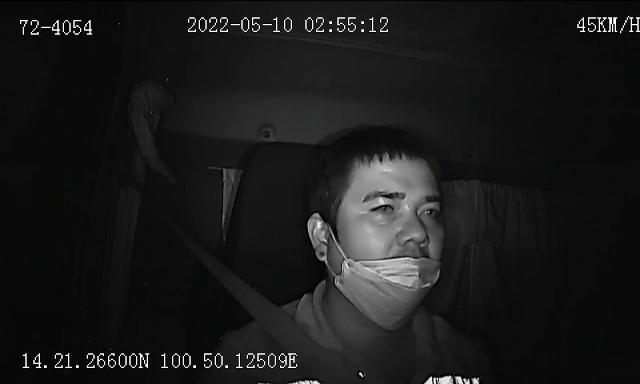SafeDriving: (364, 196, 402, 218), (414, 198, 444, 221)
Seatbelt: (198, 246, 354, 384)
